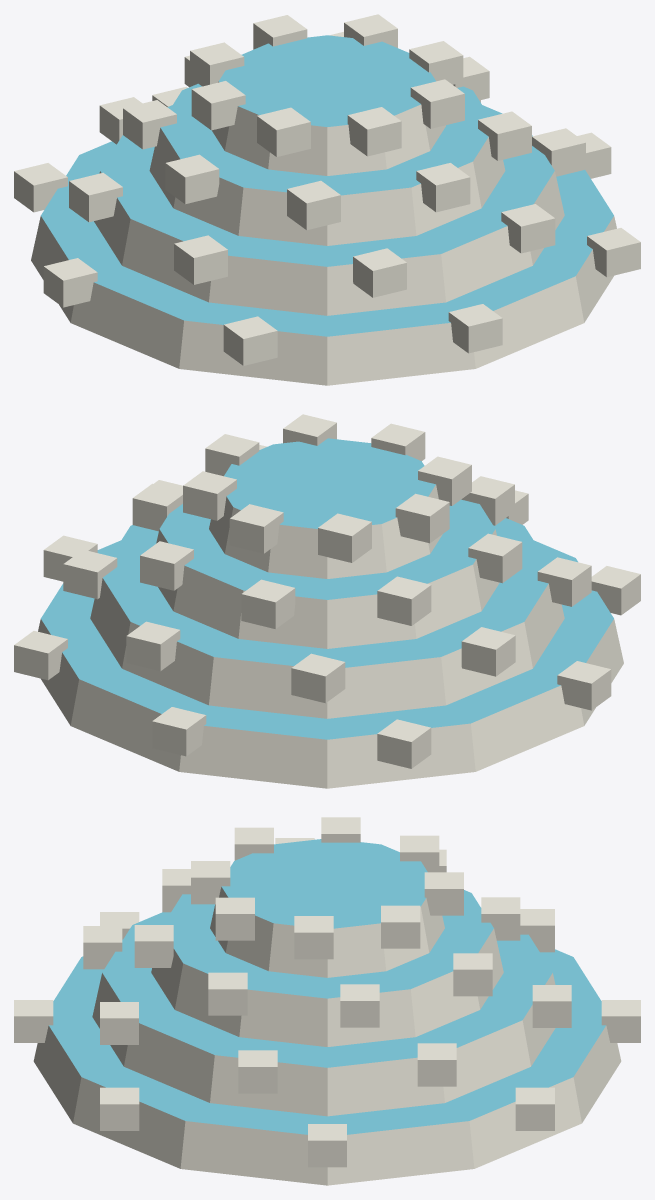
Rendered from pamukkale.glb.
The picture shows the model from 3 angles, top to bottom: view 1: azimuth 30°, elevation 25°; view 2: azimuth 150°, elevation 25°; view 3: azimuth 270°, elevation 25°; orthographic projection.
Parts seen in each view (by area): view 1: pamukkale; view 2: pamukkale; view 3: pamukkale.
Part boxes in pixels (box(x1,y1,x2,y2)): pamukkale: box(14, 14, 640, 385); pamukkale: box(14, 414, 640, 788); pamukkale: box(14, 817, 640, 1185).
Bounding box in the file's own units: 1.28 × 0.42 × 1.28.
